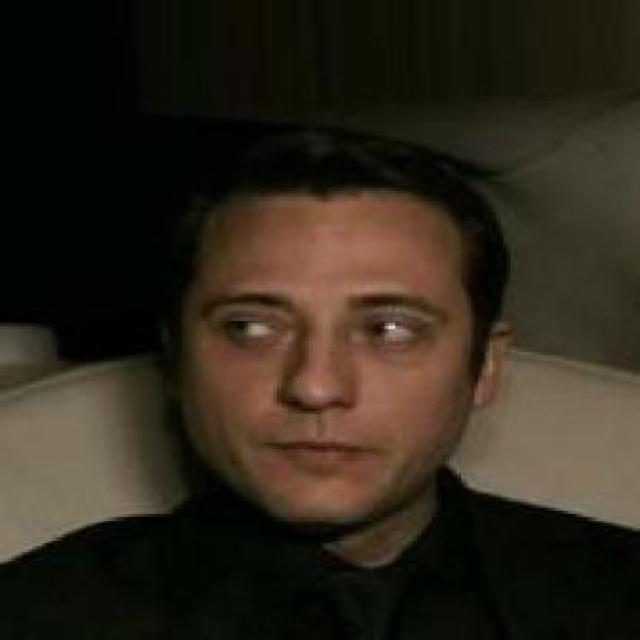closed-mouth: (270, 438, 372, 464)
